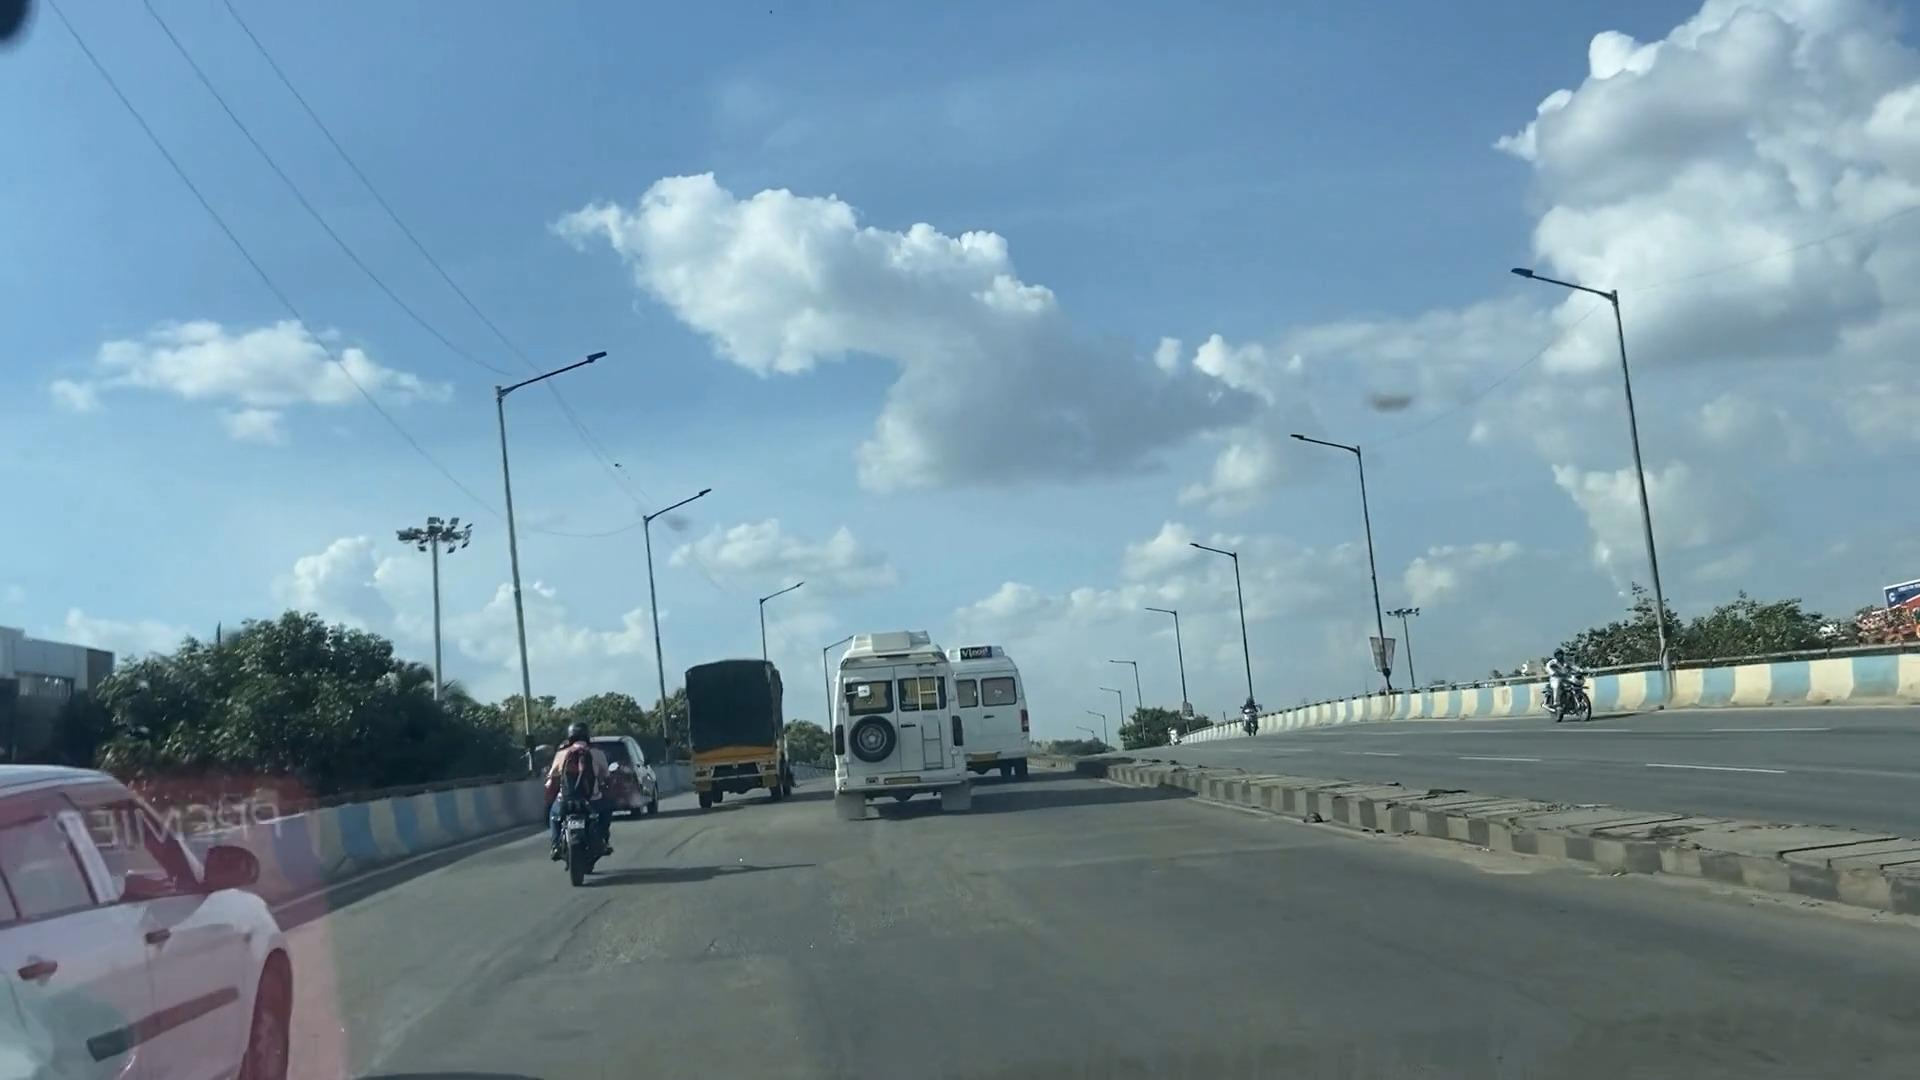HMV: (844, 618, 971, 803), (948, 634, 1022, 810)
LMV: (0, 758, 288, 1076), (556, 732, 619, 861)
RoadDamages: (561, 876, 969, 983)
